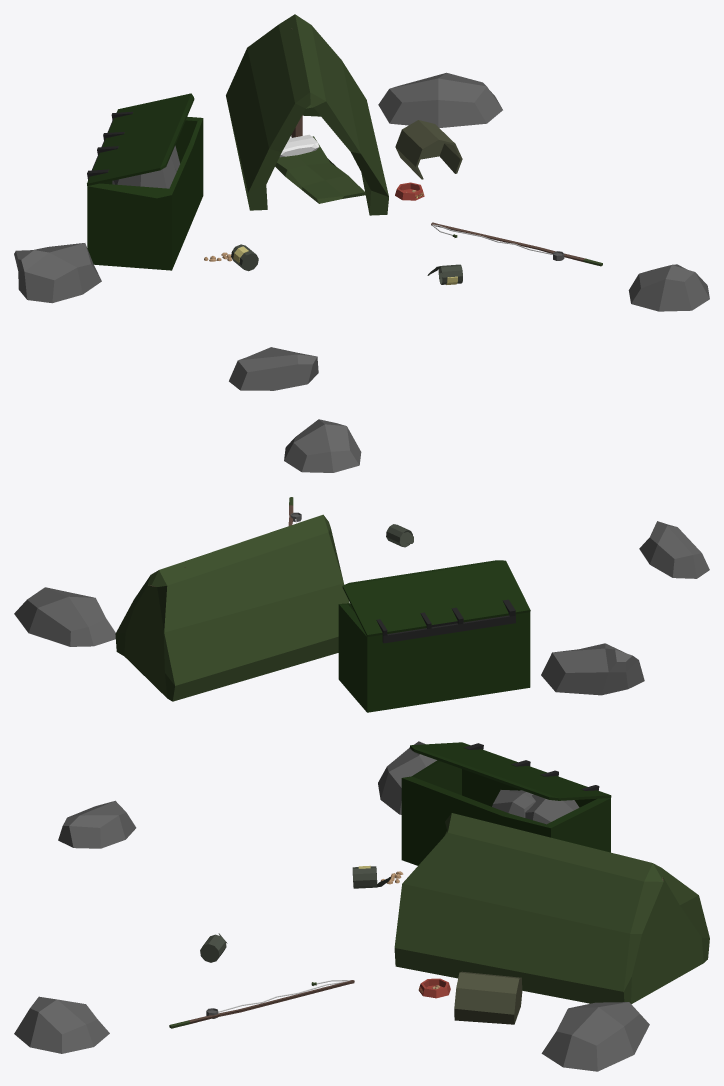
Rendered from CAMPU.fbx.
3 renders of one model, top to bottom at view 1: azimuth 30°, elevation 25°; view 2: azimuth 150°, elevation 25°; view 3: azimuth 270°, elevation 25°, orthographic. The views are drawn at different scales.
Visible parts, largest first — view 1: TELTTAA.001; view 2: TELTTAA.001; view 3: TELTTAA.001.
Part boxes in pixels (x1,y1,x2,y2): TELTTAA.001: (14, 14, 709, 390); TELTTAA.001: (14, 419, 709, 712); TELTTAA.001: (14, 741, 709, 1071).
Size of the model in its own units: 1502 by 313 by 1488.
